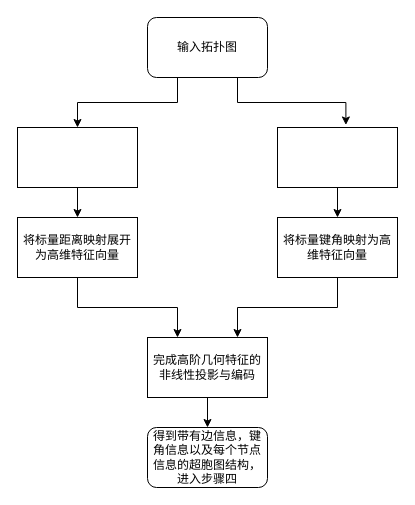
Some shapes in this 415 by 505 pixel diagram are drawn without their labels. The shapes that lost their labels are listed below. From the top down, each one's centre as x and y in pixels, then its label:
the point at 77,157: 对图网络里的每一条边提取最短物理镜像距离
the point at 337,157: 遍历图结构，识别三元组，计算局域键角
